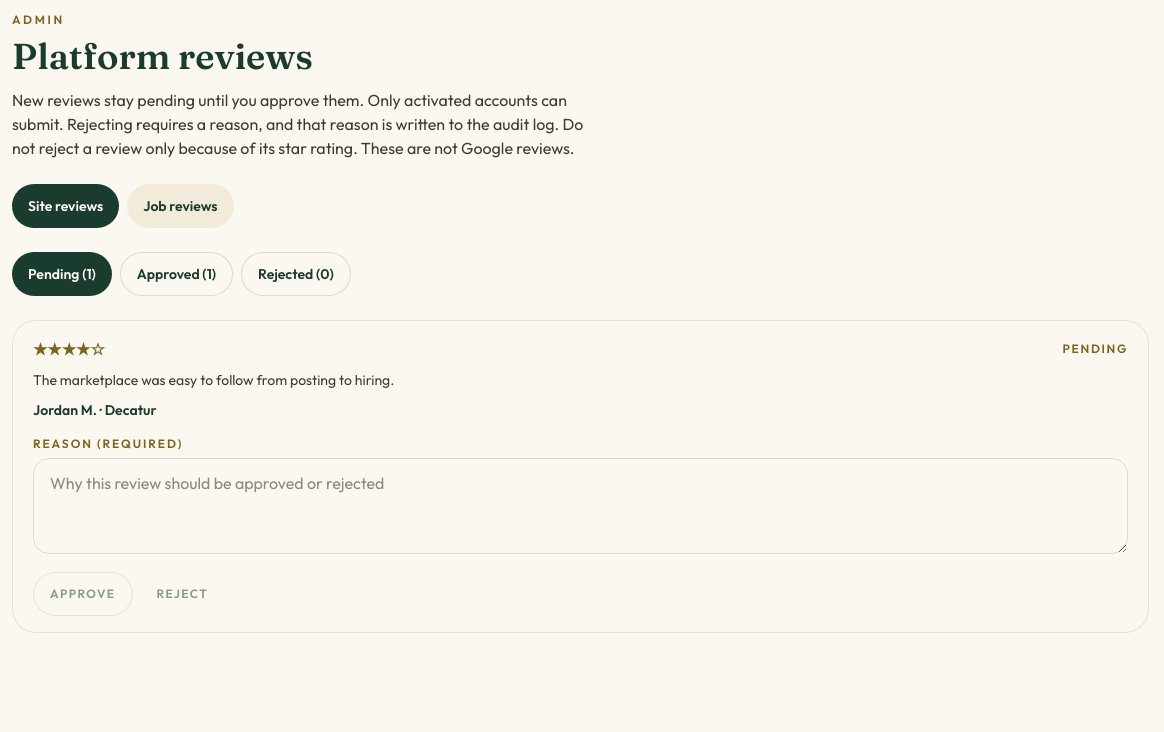
platform review moderation › keeps pending reviews in the pending queue and off the approved tab
Expected: the text "The marketplace was easy to follow from posting to hiring." is shown, top-left (33, 371), bottom-right (394, 389)
Expected: the text "This one was approved before the queue changed." is not shown
Click the tab "Approved (1)".
click(176, 274)  # box top-left (120, 252), bottom-right (233, 296)
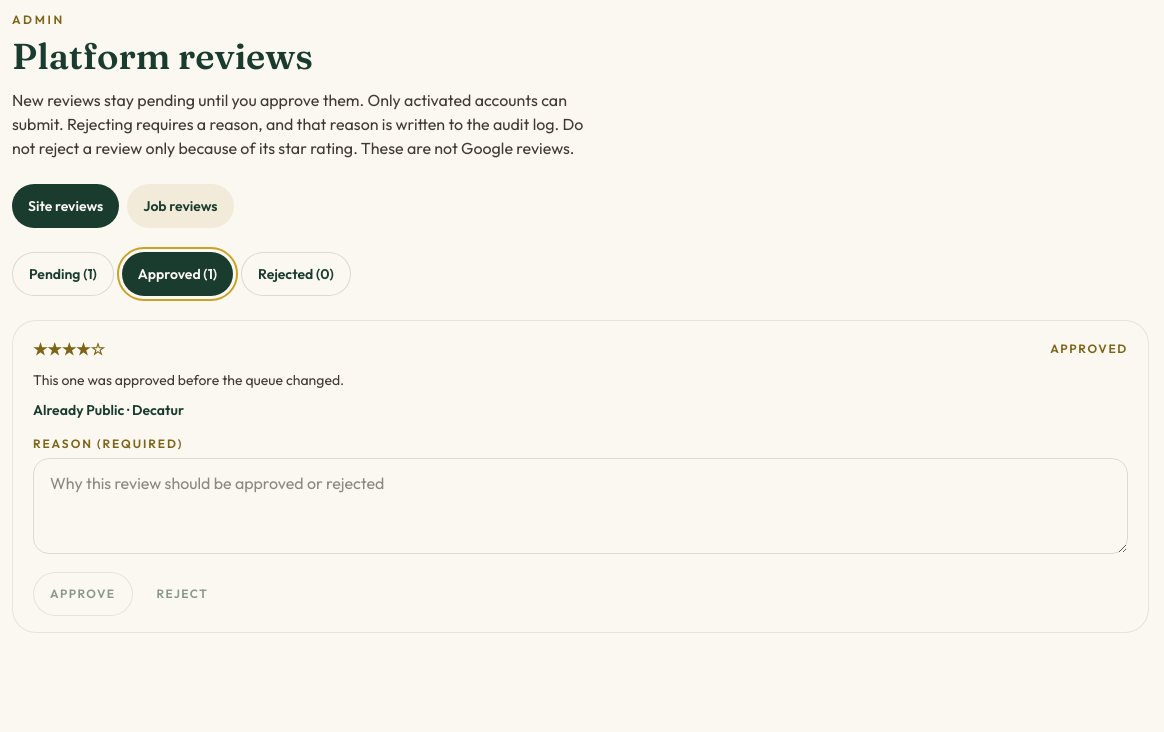
Result: the text "This one was approved before the queue changed." is shown at top-left (33, 371), bottom-right (344, 389)
Result: the text "The marketplace was easy to follow from posting to hiring." is gone
